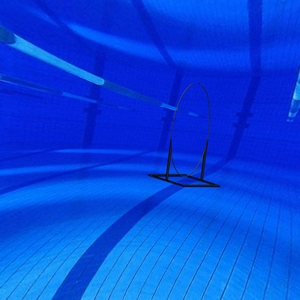circle: (147, 81, 222, 191)
